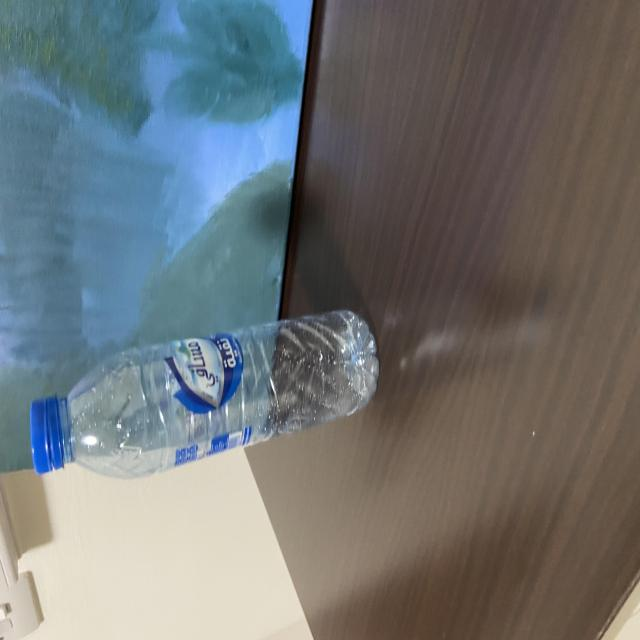bottle: (24, 311, 386, 475)
